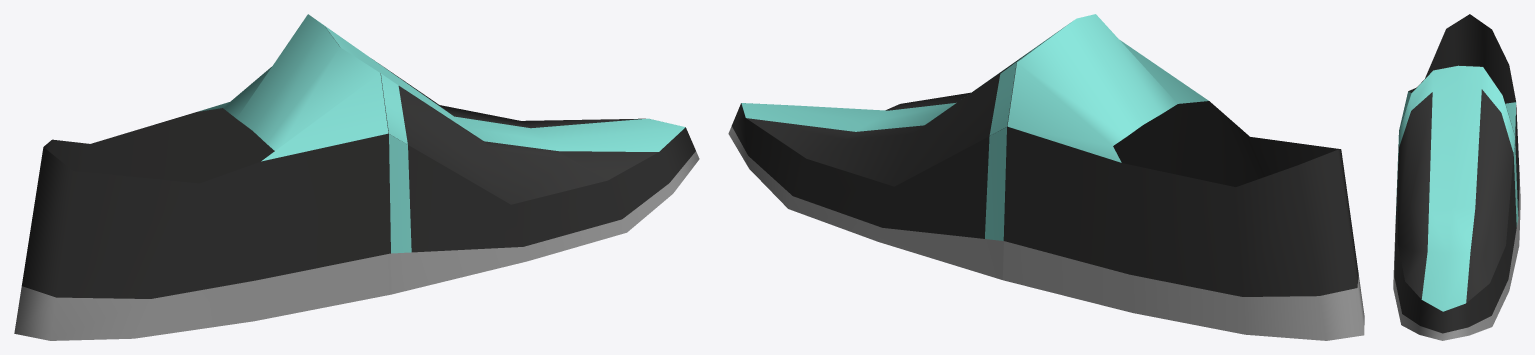
Rendered from shoe1.fbx.
3 renders of one model, left to right at view 1: azimuth 30°, elevation 25°; view 2: azimuth 150°, elevation 25°; view 3: azimuth 270°, elevation 25°, orthographic. The views are drawn at different scales.
Visible parts, largest first — view 1: pCube181; view 2: pCube181; view 3: pCube181.
Part boxes in pixels (left/top/right/bottom): pCube181: left=14, top=14, right=699, bottom=340; pCube181: left=728, top=14, right=1364, bottom=340; pCube181: left=1393, top=14, right=1520, bottom=340.
Bounding box in the file's own units: 4.5 × 1.56 × 1.06.
